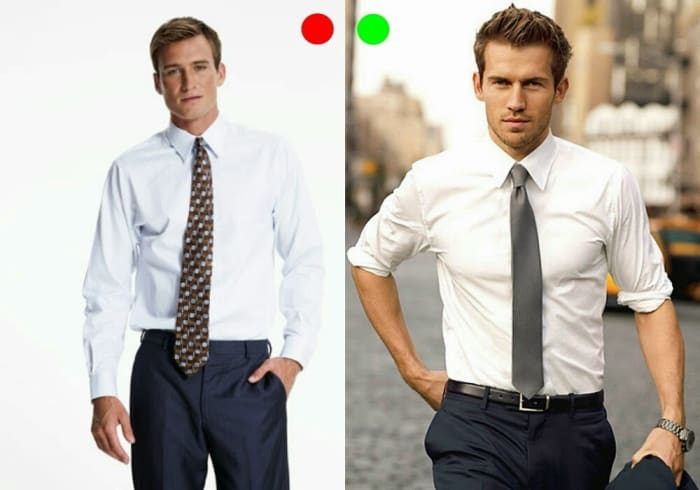F_belt: (438, 378, 611, 411)
F_dress pants: (121, 355, 292, 487)
F_shirt: (360, 131, 672, 404), (79, 114, 317, 390)
F_tie: (505, 164, 556, 398), (169, 138, 219, 368)
